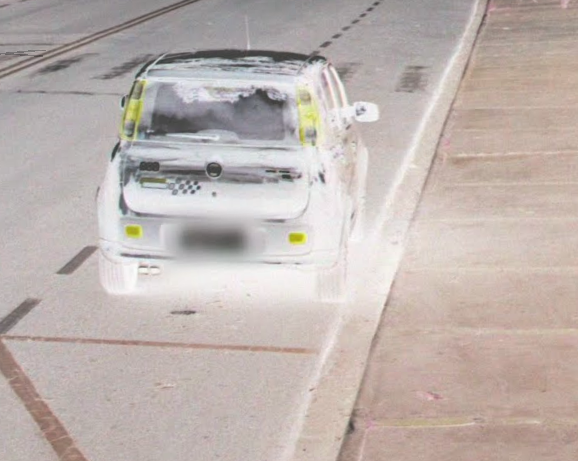car: (91, 36, 383, 306)
